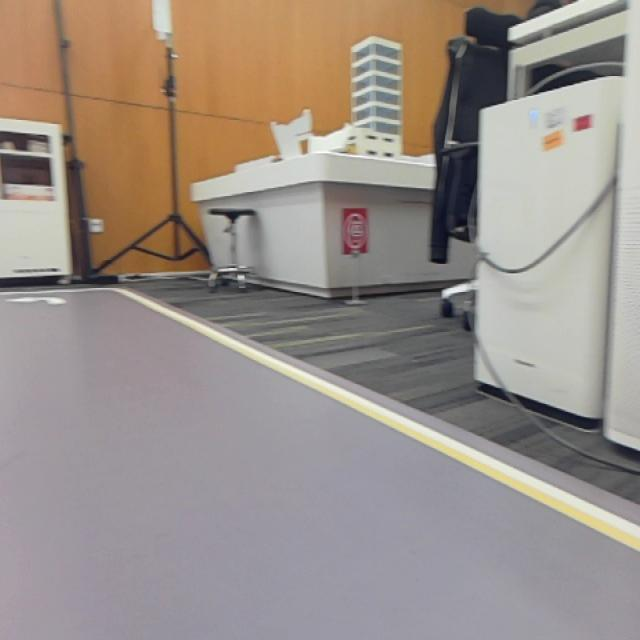right_lane: (117, 289, 638, 552)
